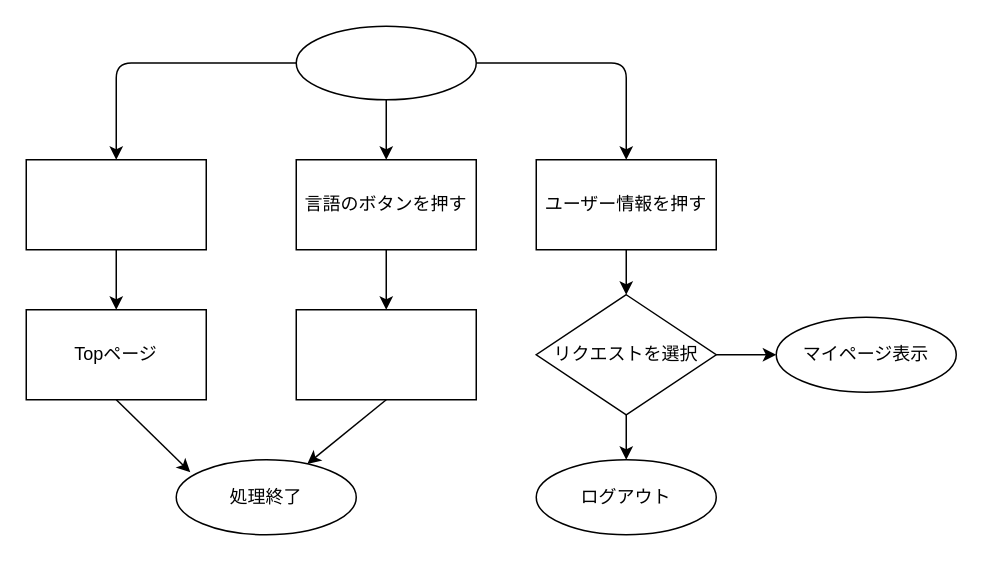
The diagram is 983 pixels wide and 561 high, and some of its shapes have lost their labels. The box of each missing label's shape, as (x1, y1, x2, y2) in pixels:
Freeksボタンを押す: (25, 158, 206, 250)
処理開始: (295, 25, 476, 100)
言語カリキュラム: (295, 308, 476, 400)
